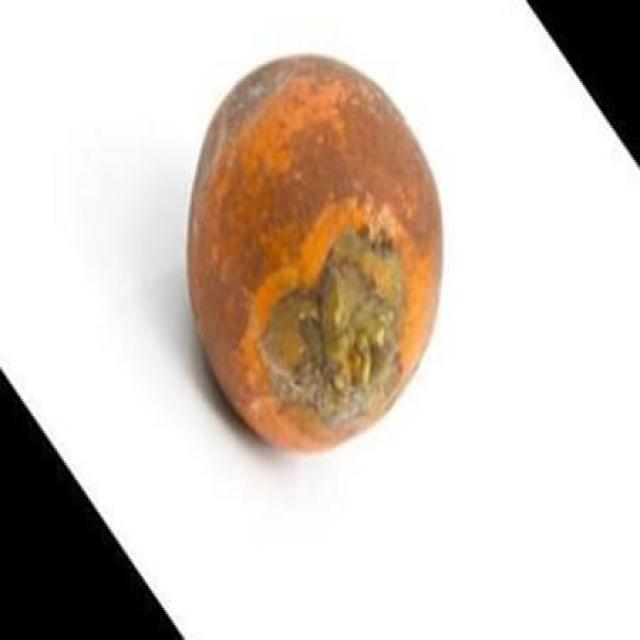good: (185, 55, 445, 457)
